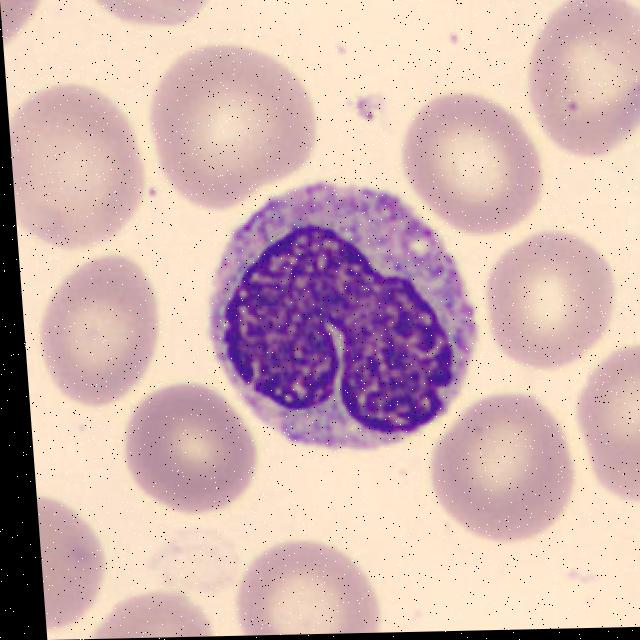monocyte: (200, 187, 483, 470)
rbc: (141, 46, 331, 207), (6, 72, 155, 258), (385, 81, 543, 241), (429, 392, 580, 545), (477, 230, 625, 377), (26, 250, 161, 407), (118, 379, 266, 520), (514, 0, 640, 163), (227, 540, 408, 636), (34, 458, 114, 632), (574, 350, 640, 509), (74, 588, 224, 639), (86, 0, 223, 39), (635, 505, 640, 627)
